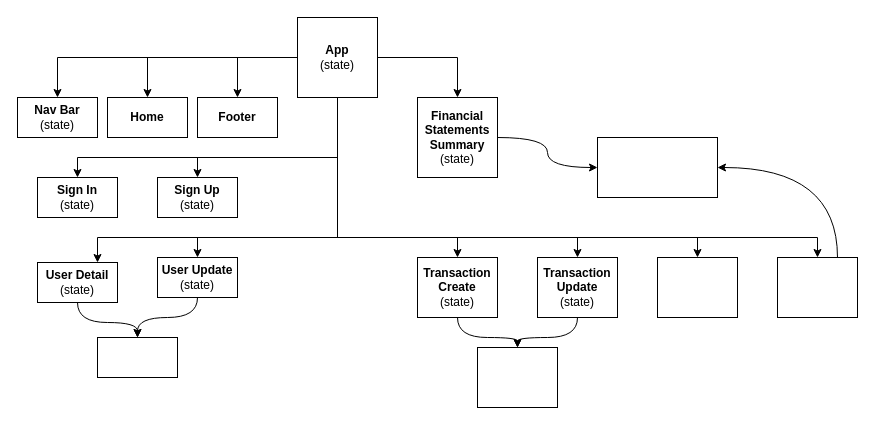
The diagram is 875 pixels wide and 425 high, and some of its shapes have lost their labels. Each missing label, with the centre of its shape:
"All Transactions (state)" belongs at point (697, 287).
"Financial Statements (props)" belongs at point (657, 167).
"Transaction Detail (state)" belongs at point (817, 287).
"Transaction Form (props)" belongs at point (517, 377).
"User Form (props)" belongs at point (137, 357).
